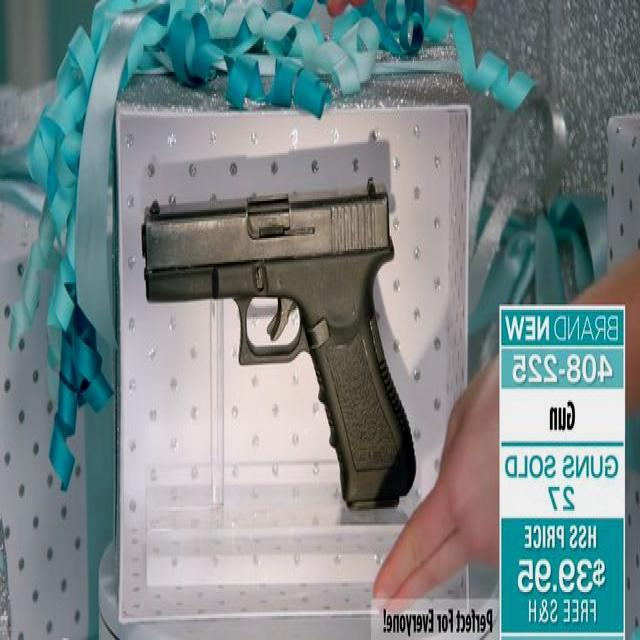pistol: (144, 179, 413, 503)
